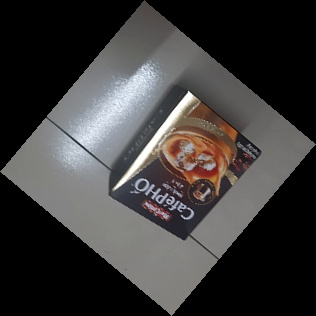CF pho: (108, 87, 262, 240)
